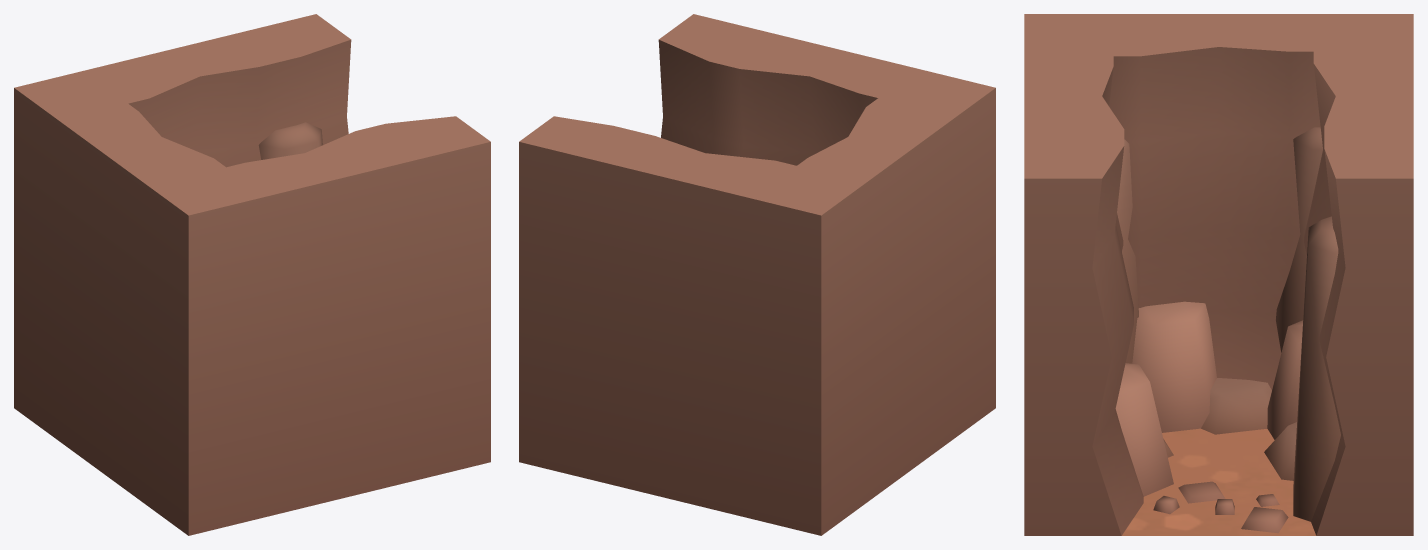
Rendered from corridor-end.obj.
The picture shows the model from 3 angles, left to right: view 1: azimuth 30°, elevation 25°; view 2: azimuth 150°, elevation 25°; view 3: azimuth 270°, elevation 25°; orthographic projection. The views are drawn at different scales.
Parts seen in each view (by area): view 1: corridor-end; view 2: corridor-end; view 3: corridor-end.
Part boxes in pixels (left/top/right/bottom): corridor-end: left=14, top=14, right=490, bottom=535; corridor-end: left=519, top=14, right=995, bottom=535; corridor-end: left=1024, top=14, right=1413, bottom=535.
Bounding box in the file's own units: 4 × 4.05 × 4.
1 material, 1 textured.
